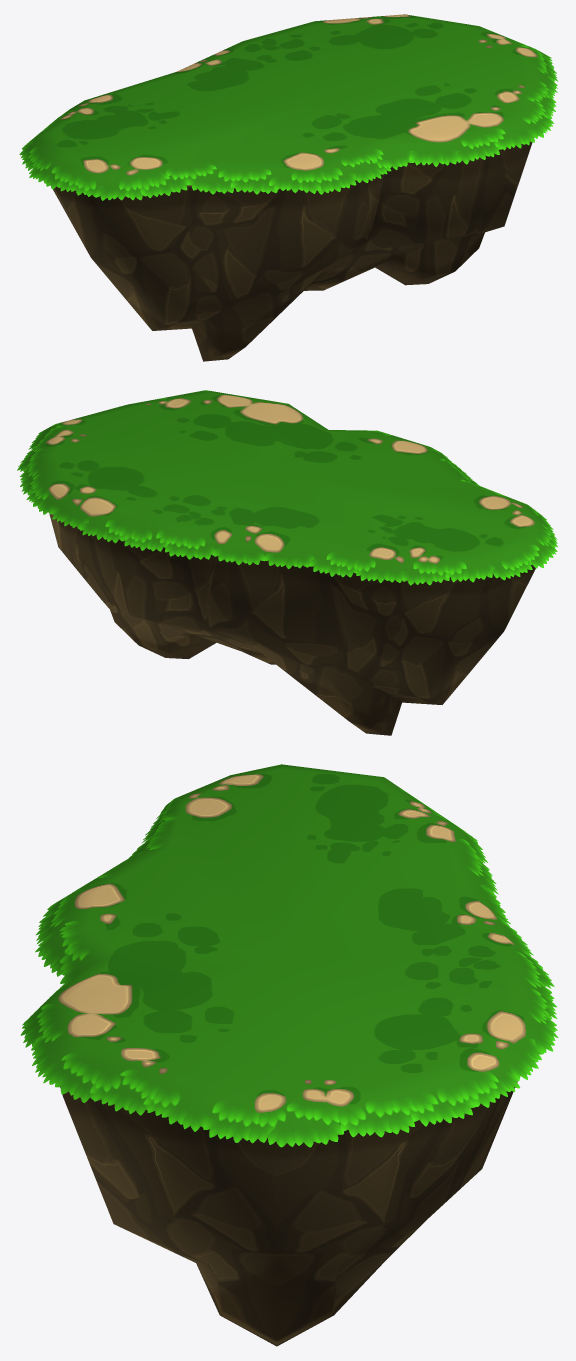
The model's file is Island_02.FBX.
3 views of the same model, one above another, from view 1: azimuth 30°, elevation 25°; view 2: azimuth 150°, elevation 25°; view 3: azimuth 270°, elevation 25° (orthographic). The views are drawn at different scales.
Parts seen in each view (by area): view 1: Island_02; view 2: Island_02; view 3: Island_02.
Part boxes in pixels (left/top/right/bottom): Island_02: left=19, top=14, right=557, bottom=361; Island_02: left=17, top=390, right=557, bottom=735; Island_02: left=20, top=764, right=558, bottom=1346.
Bounding box in the file's own units: 749 × 328 × 457.
